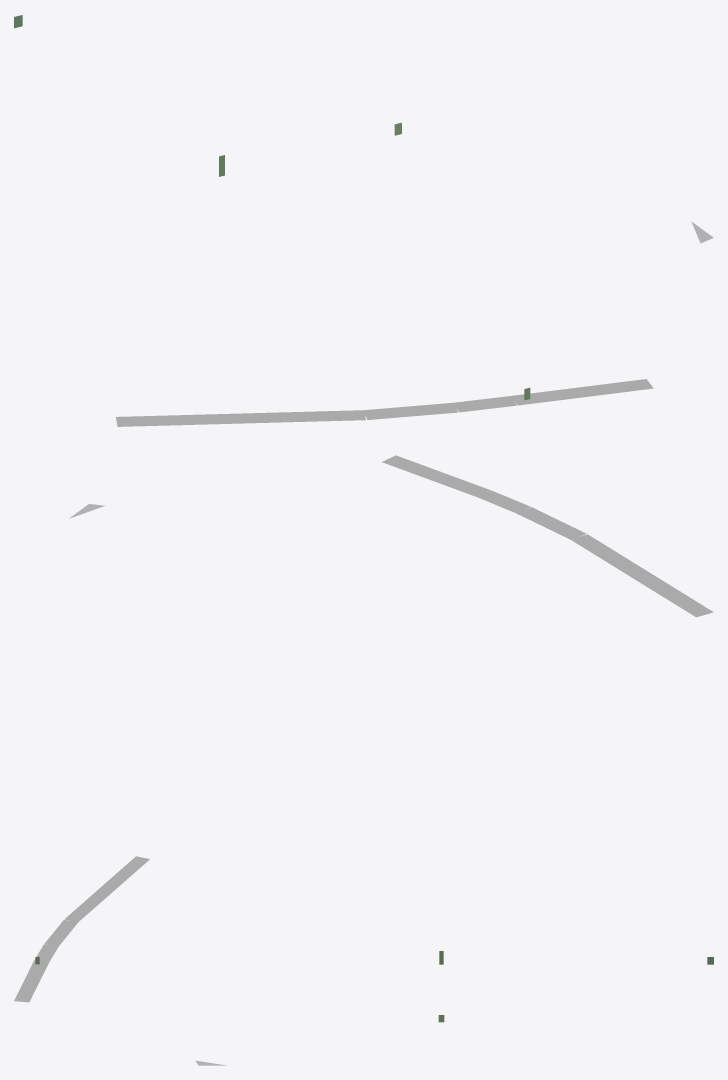
3 views of the same model, one above another, from view 1: azimuth 30°, elevation 25°; view 2: azimuth 150°, elevation 25°; view 3: azimuth 270°, elevation 25° (orthographic). The views are drawn at different scales.
Bounding box in the file's own units: 219 × 7.52 × 312.
